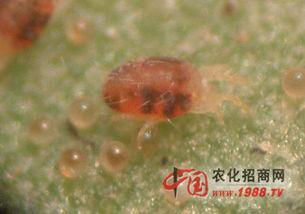pest: (86, 49, 243, 150)
